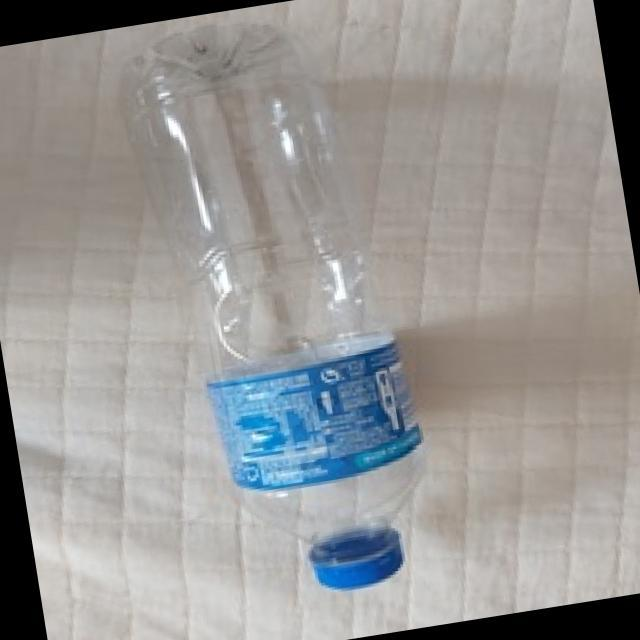good: (101, 0, 459, 621)
